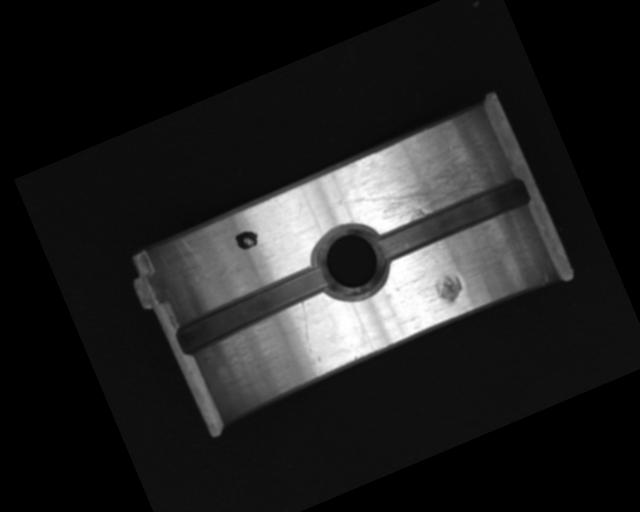blot: (232, 226, 261, 253)
bruise: (431, 269, 467, 306)
gap: (170, 260, 338, 359), (371, 174, 533, 266)
hole: (305, 214, 400, 311)
nick: (289, 301, 322, 354)
scratch: (347, 127, 514, 240)
